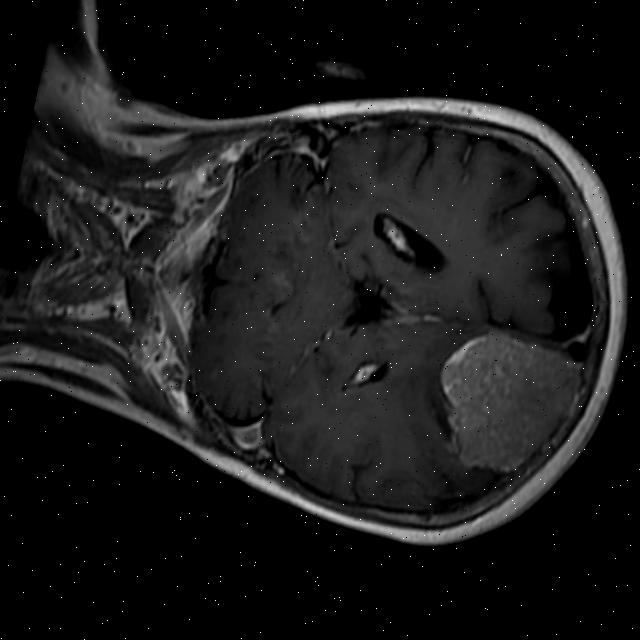Meningioma: (421, 315, 592, 487)
